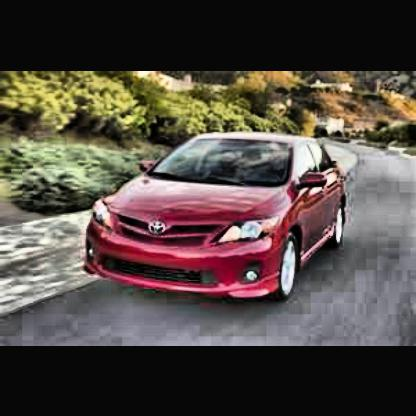Toyota Corolla Sedan 2012: (83, 131, 352, 308)
